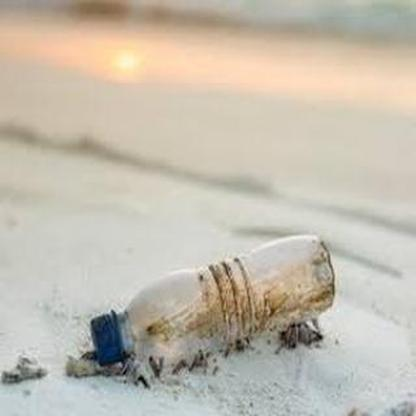plastic bottle: (90, 235, 335, 365)
